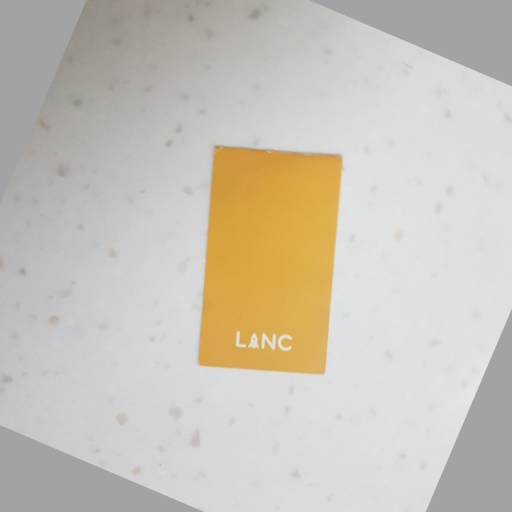Paper_2: (195, 140, 345, 379)
